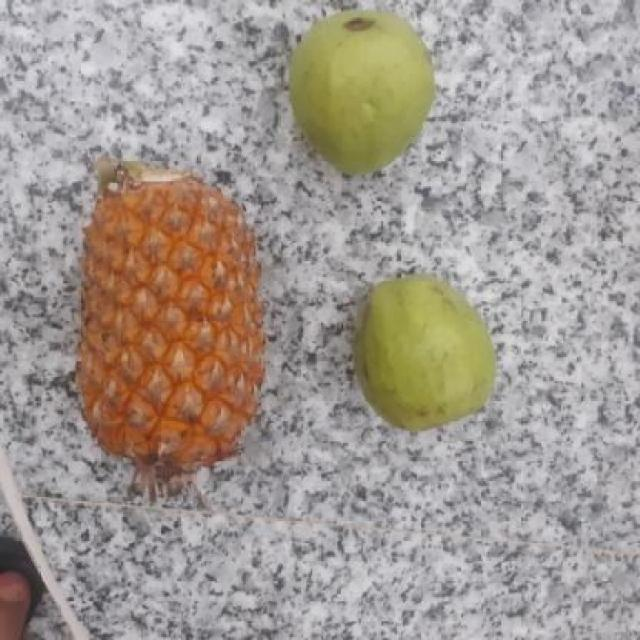guava: (285, 9, 437, 182), (346, 276, 499, 427)
pineapple: (77, 152, 260, 482)
